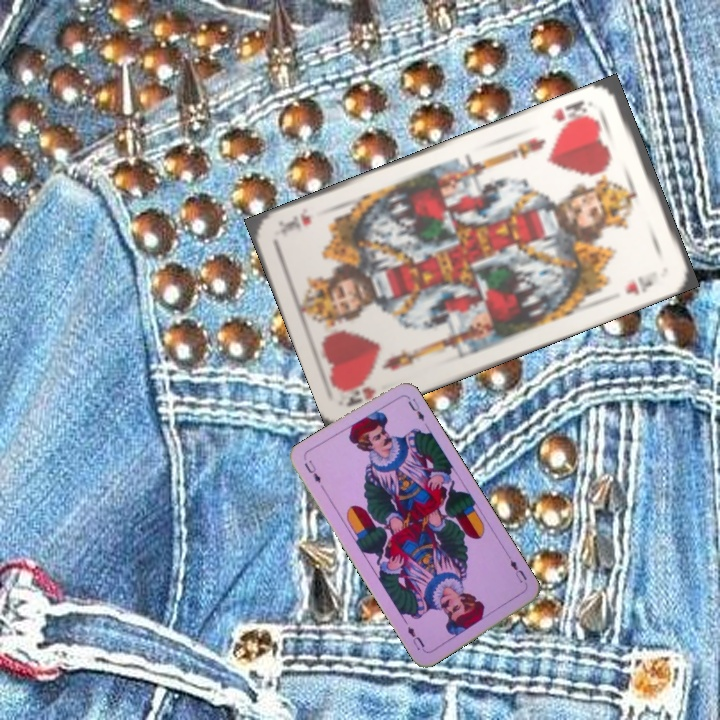EU: (504, 551, 530, 586), (300, 456, 323, 486)
HK: (547, 96, 596, 132), (339, 380, 378, 409)
